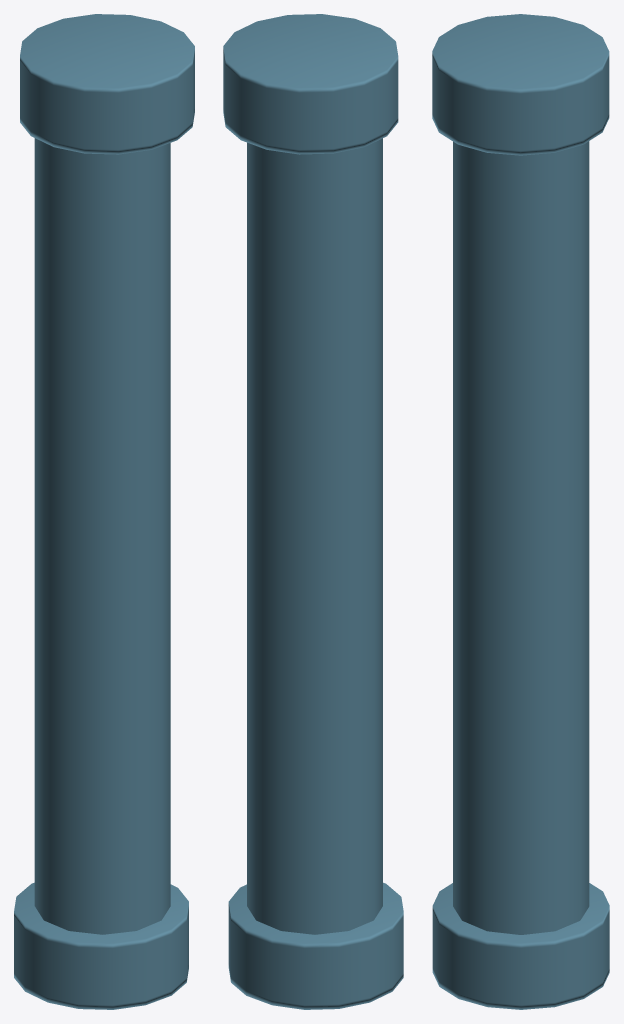
The model's file is Pipe_02.fbx.
The picture shows the model from 3 angles, left to right: view 1: azimuth 30°, elevation 25°; view 2: azimuth 150°, elevation 25°; view 3: azimuth 270°, elevation 25°; orthographic projection.
Visible parts, largest first — view 1: Pipe2; view 2: Pipe2; view 3: Pipe2.
Boxes of the visible parts, x1,y1,x2,y2 form: Pipe2: [14, 14, 194, 1009]; Pipe2: [223, 14, 403, 1009]; Pipe2: [432, 14, 609, 1009].
Bounding box in the file's own units: 44.33 × 246 × 42.87.
